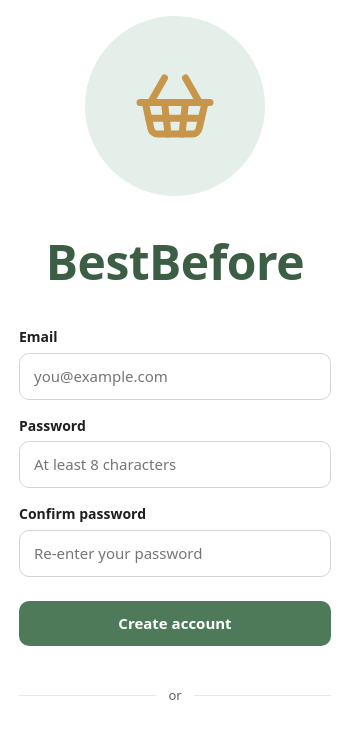
Test case: Register › shows the mock error response
Type "taken@example.com" into the field labelled "Email".
click(175, 376); type("taken@example.com")  # box [19,353,331,400]
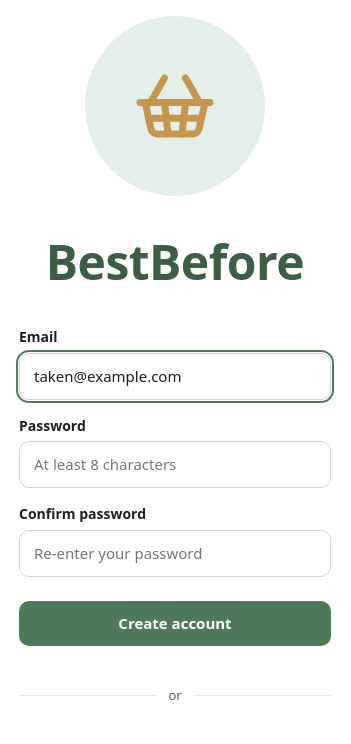
Type "password123" into the password field labelled "Password".
click(175, 465); type("password123")  # box [19,441,331,488]
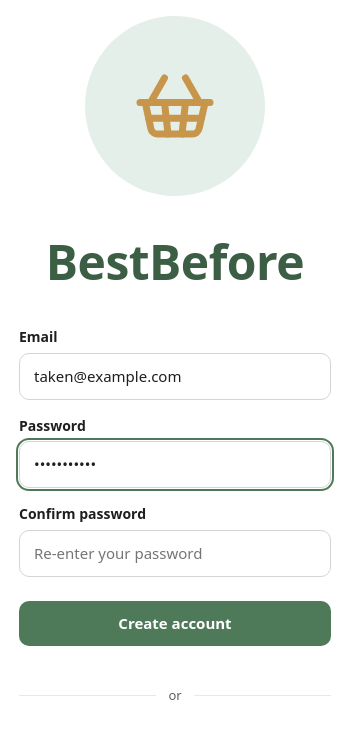
Type "password123" into the password field labelled "Confirm password".
click(175, 554); type("password123")  # box [19,530,331,577]
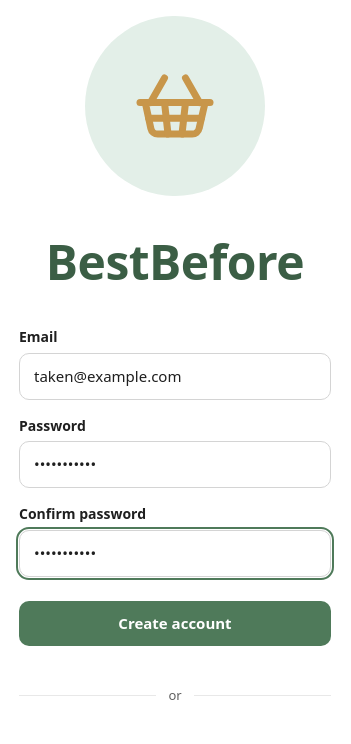
Click the button "Create account".
click(175, 624)  # box [19,601,331,646]
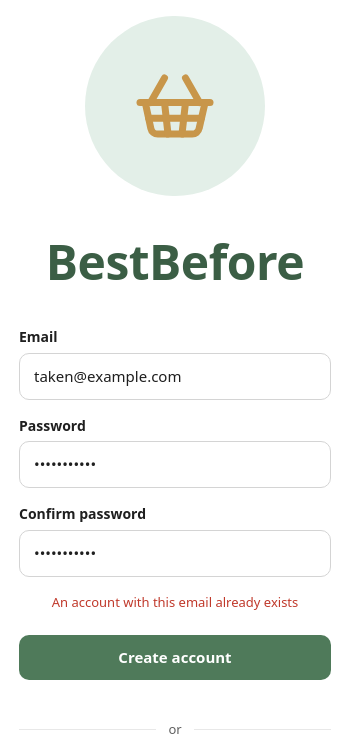
Expected: the button "Create account" is enabled, [19,635,331,680]
Now the message reads "An account with this email already exists", box [52,593,298,611]
